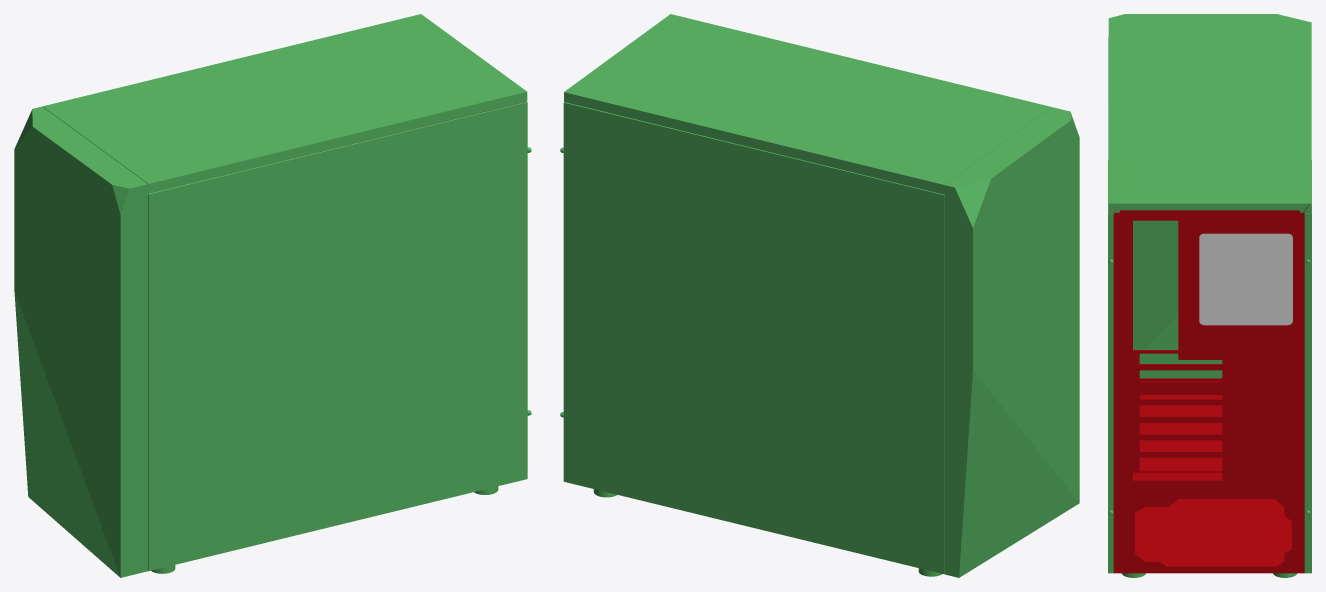
File: pc_case_c_cover.fbx
The picture shows the model from 3 angles, left to right: view 1: azimuth 30°, elevation 25°; view 2: azimuth 150°, elevation 25°; view 3: azimuth 270°, elevation 25°; orthographic projection. The views are drawn at different scales.
Parts seen in each view (by area): view 1: pc_case_c_cover; view 2: pc_case_c_cover_door, pc_case_c_cover; view 3: pc_case_c_body, pc_case_c_cover, pc_case_c_wire, pc_case_c_cover_door.
Boxes of the visible parts, x1=… form: pc_case_c_cover: x1=14, y1=14, x2=531, y2=577; pc_case_c_cover_door: x1=560, y1=102, x2=944, y2=574; pc_case_c_cover: x1=564, y1=14, x2=1079, y2=577; pc_case_c_body: x1=1110, y1=204, x2=1309, y2=573; pc_case_c_cover: x1=1108, y1=14, x2=1311, y2=577; pc_case_c_wire: x1=1199, y1=233, x2=1292, y2=325; pc_case_c_cover_door: x1=1304, y1=160, x2=1311, y2=573.
Bounding box in the file's own units: 48.92 × 45.53 × 21.99.
